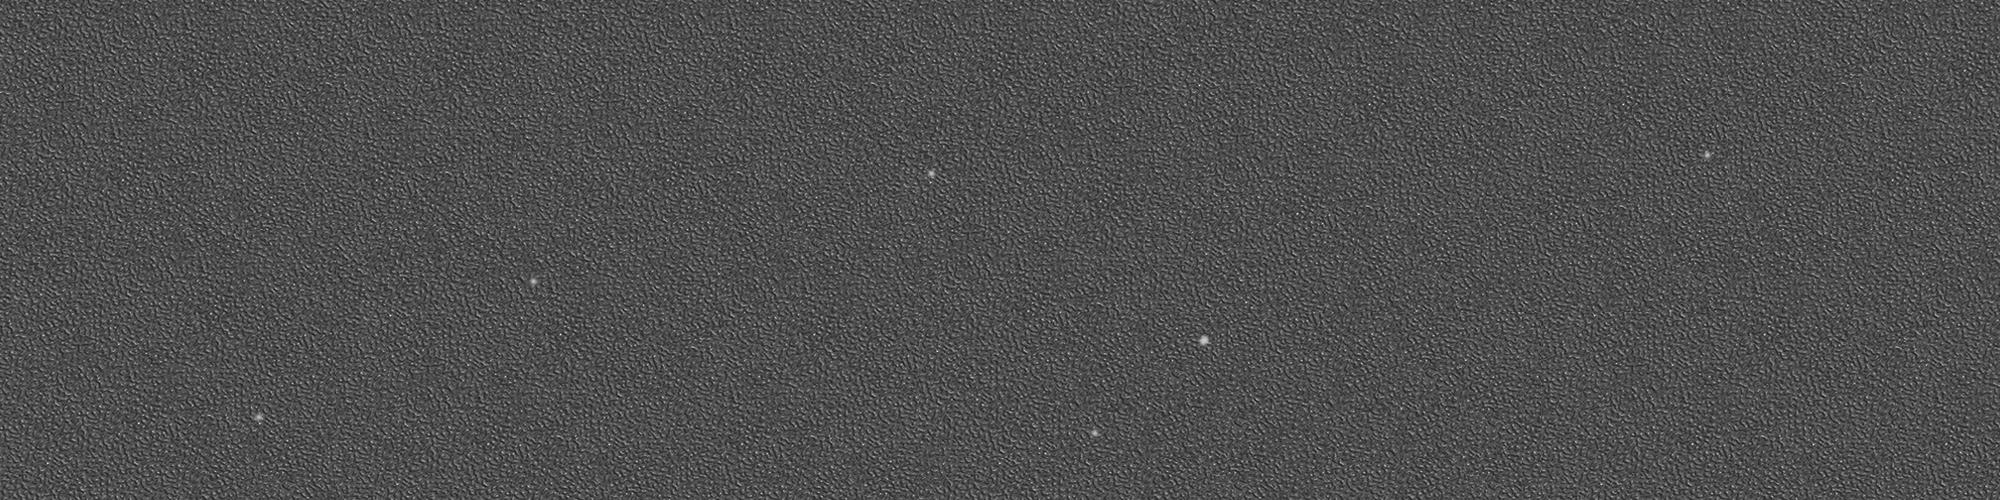Particles: (250, 409, 267, 425), (1195, 330, 1210, 347), (1085, 425, 1105, 437), (1702, 148, 1716, 163), (531, 272, 543, 288), (921, 168, 939, 180)
